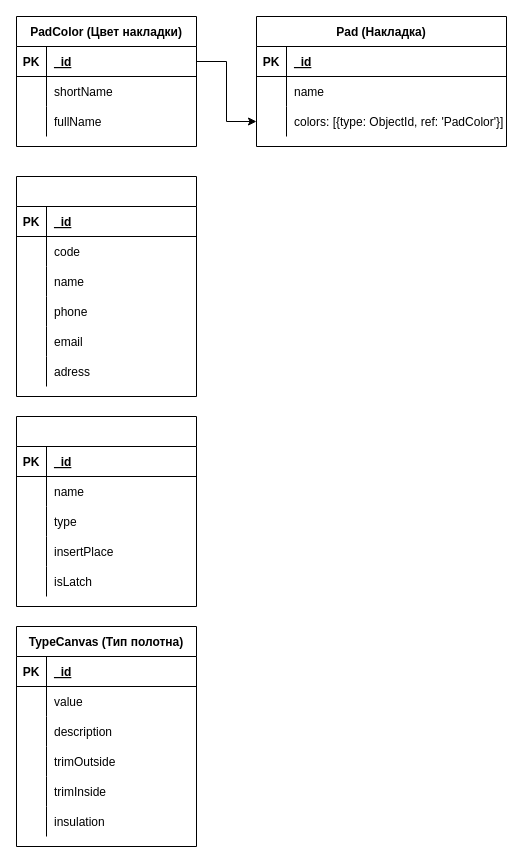
Some shapes in this 523 by 863 pixel diagram are drawn without their labels. Here are the shapes that lost their labels. From the top down, the box of each, then its label:
(16, 176, 196, 396): Customer (Заказчик)
(16, 416, 196, 606): Lock (Замок)
